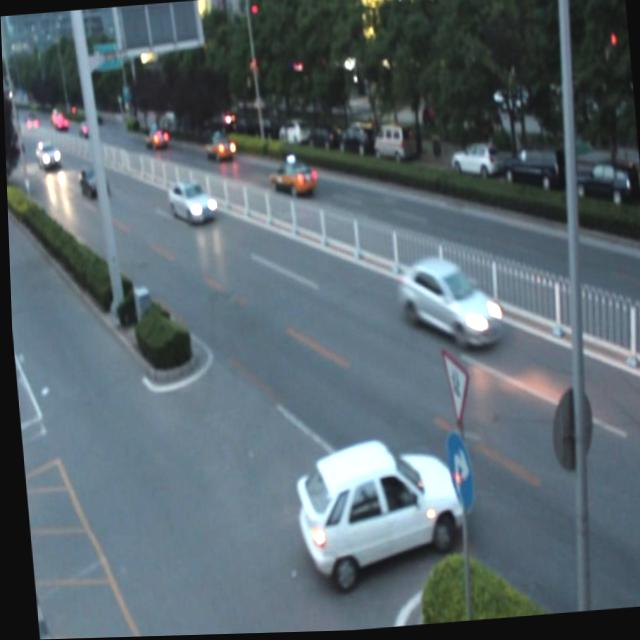car: (291, 442, 461, 577), (396, 253, 501, 355), (166, 181, 214, 227), (269, 161, 314, 197), (202, 131, 235, 162), (78, 166, 110, 197), (143, 123, 169, 154)
